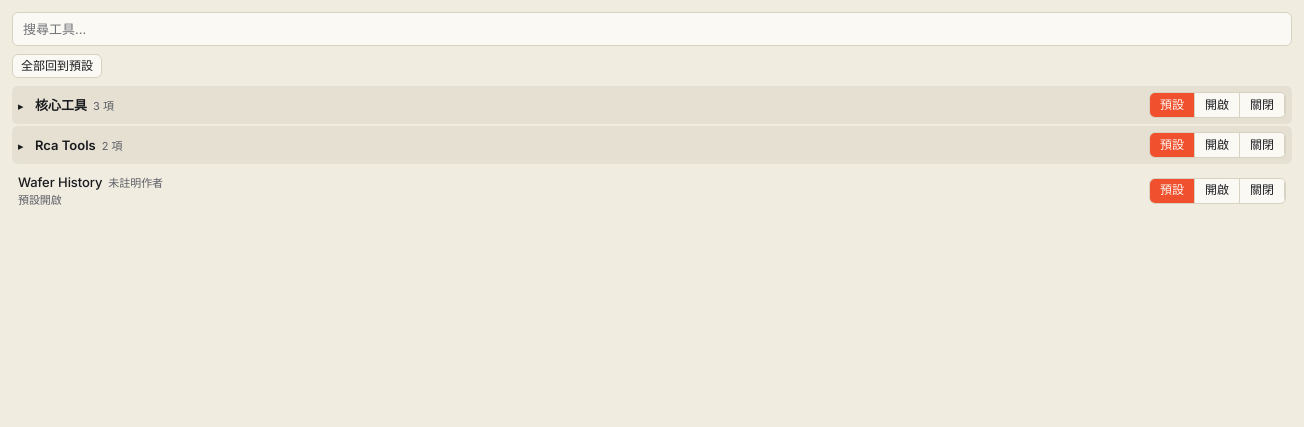
it: ToolsChecklist folds — what a search change restores › a fold opened by hand survives a search typed and erased
Click the button with test id "tool-group-header-builtin": (61, 105) [18,95,1139,115]
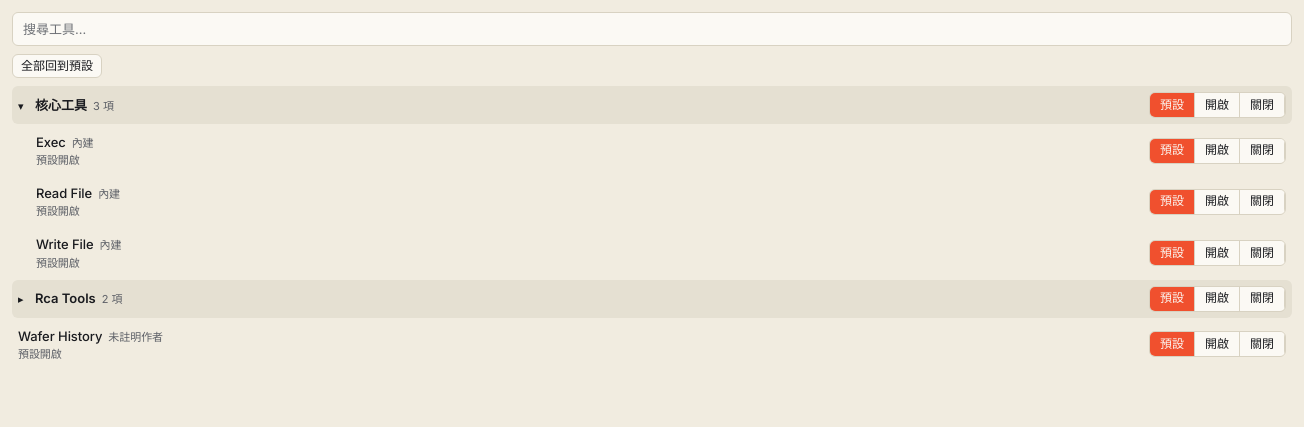
In the field with test id "tools-search": (652, 29) [12,12,1292,46], type "r"
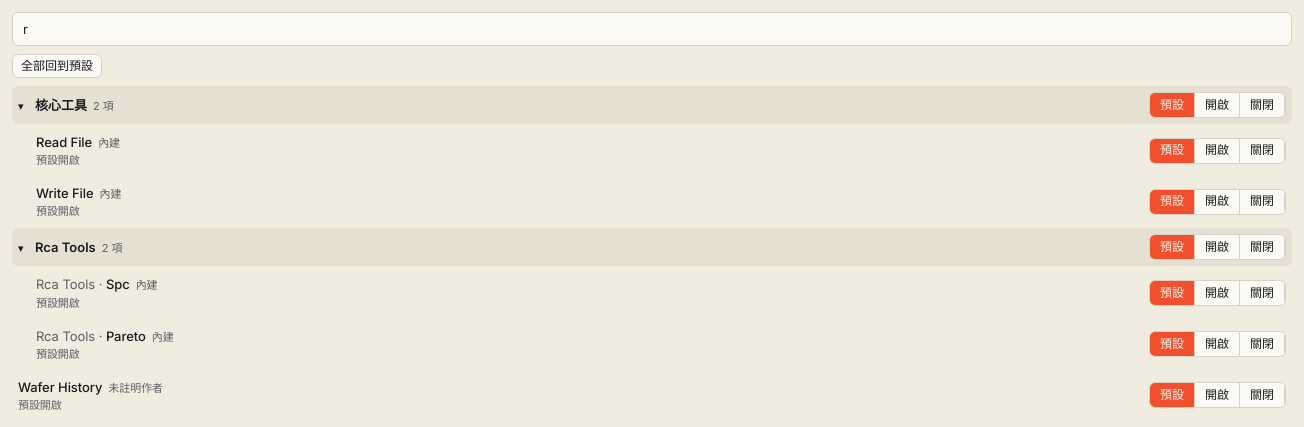
Clear the field with test id "tools-search": (652, 29) [12,12,1292,46]
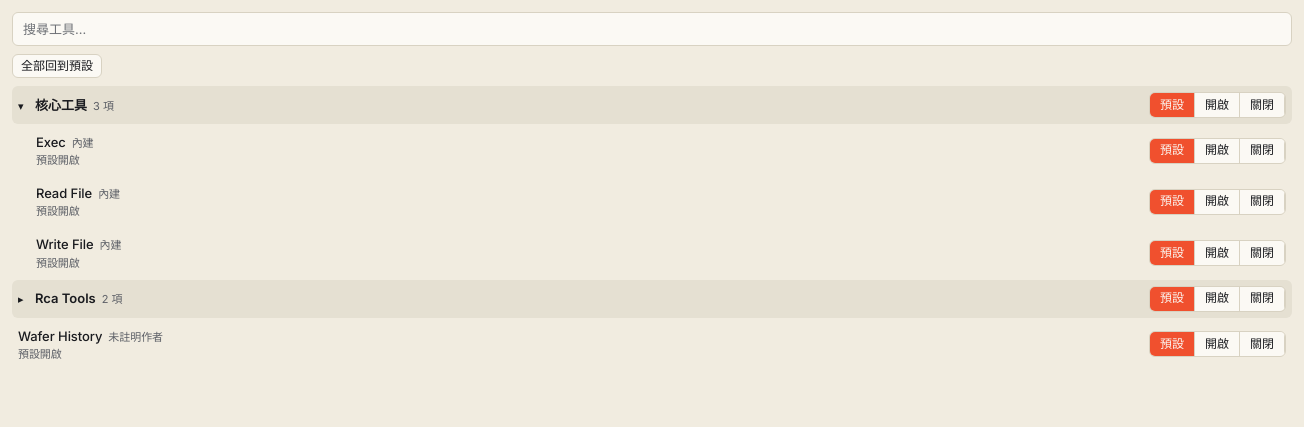
Now the button with test id "tool-group-header-builtin" is expanded, box [18,95,1139,115]
Now the element with test id "tool-row-exec" is shown, box [12,126,1292,175]
